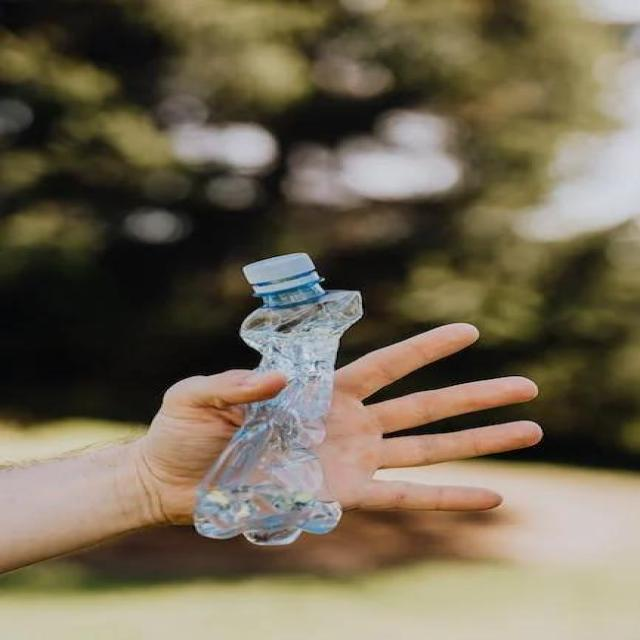plastic bottle: (192, 282, 363, 548)
plastic bottle cap: (242, 251, 318, 288)
